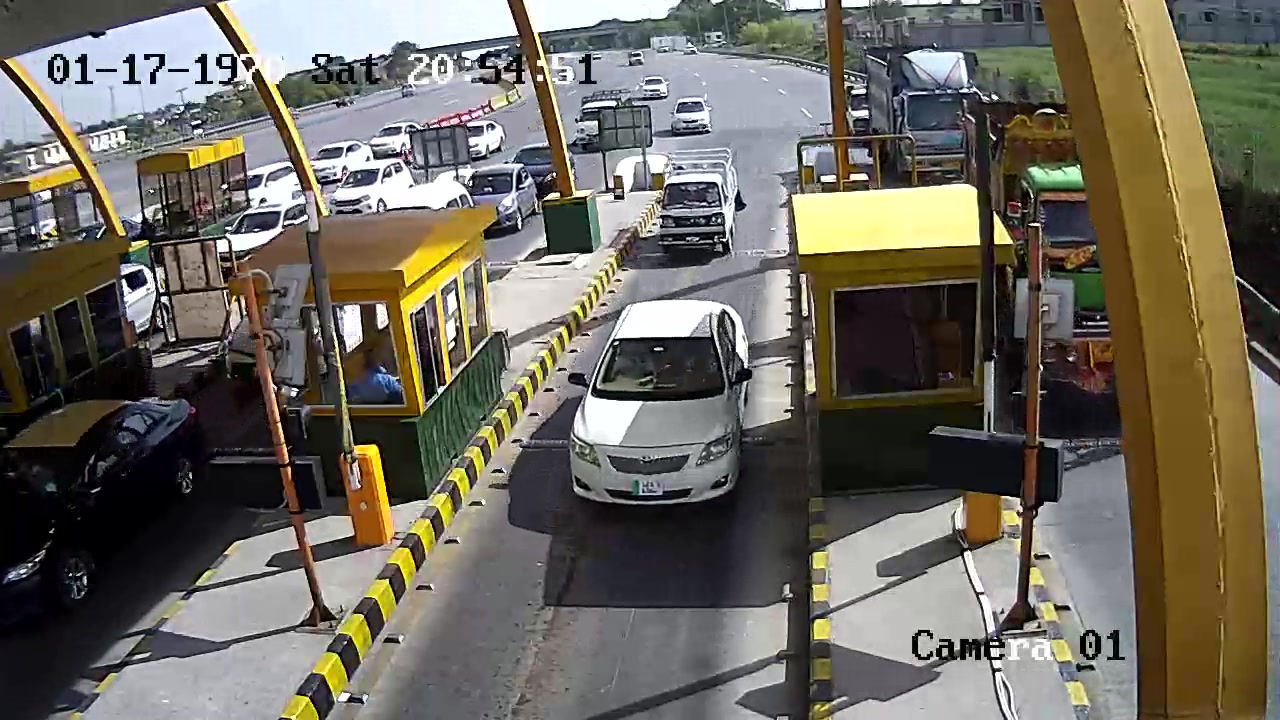F1: (562, 295, 755, 526)
